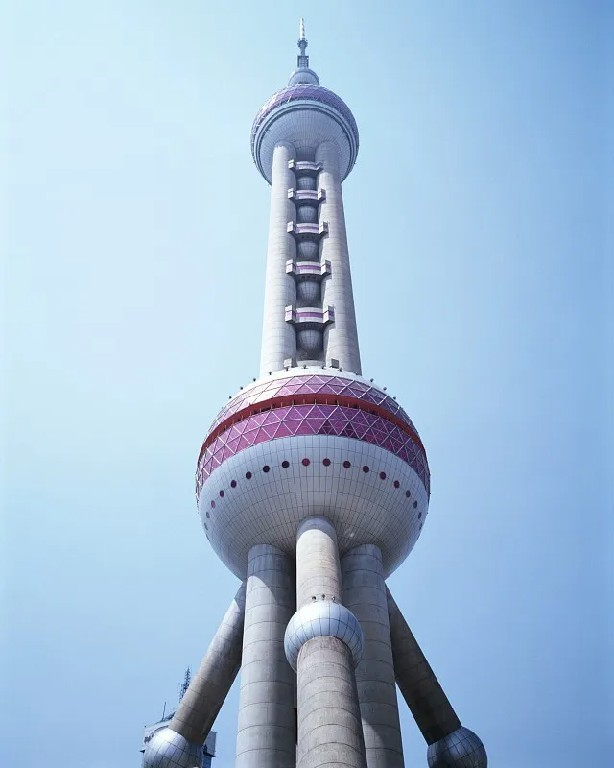Oriental: (143, 20, 486, 768)
